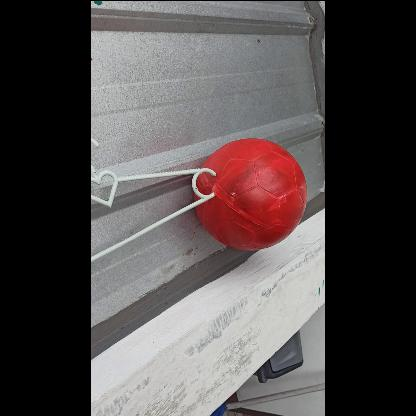red_ball: (193, 136, 307, 250)
